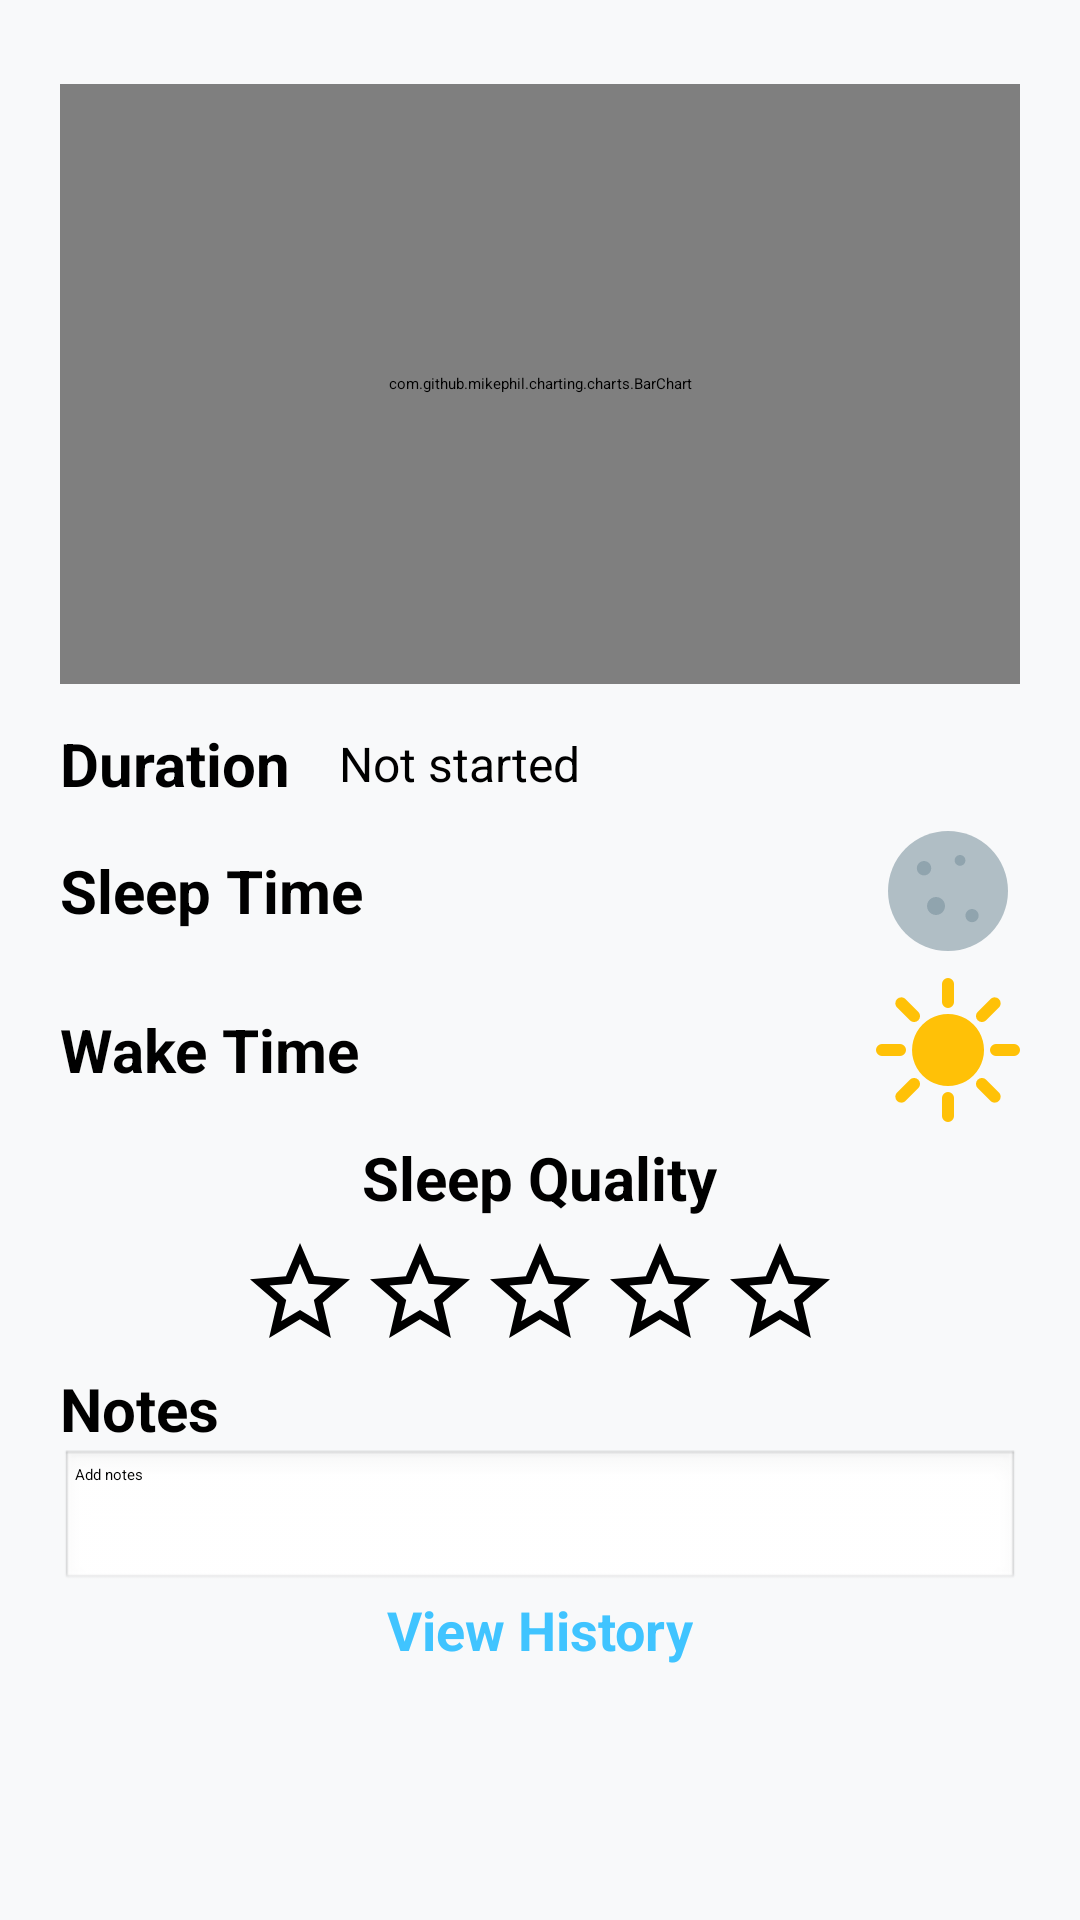

Where icons sit on this 1080w x 1920h app screen, as (x1, y1, x2, y2):
Star 1: (250, 1243, 350, 1338)
Star 2: (370, 1243, 470, 1338)
Star 3: (490, 1243, 590, 1338)
Star 4: (610, 1243, 710, 1338)
Star 5: (730, 1243, 830, 1338)
sun: (876, 978, 1020, 1122)
